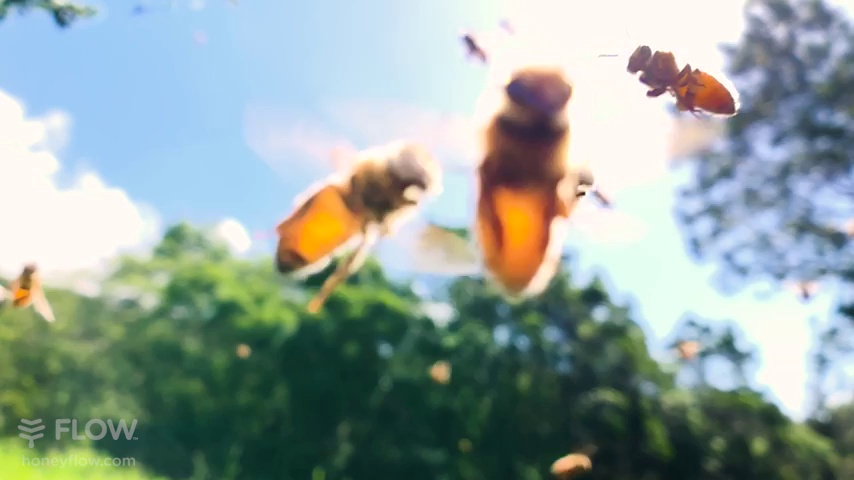insect: (468, 66, 587, 303), (275, 138, 434, 283), (620, 40, 735, 120), (1, 258, 48, 309)
